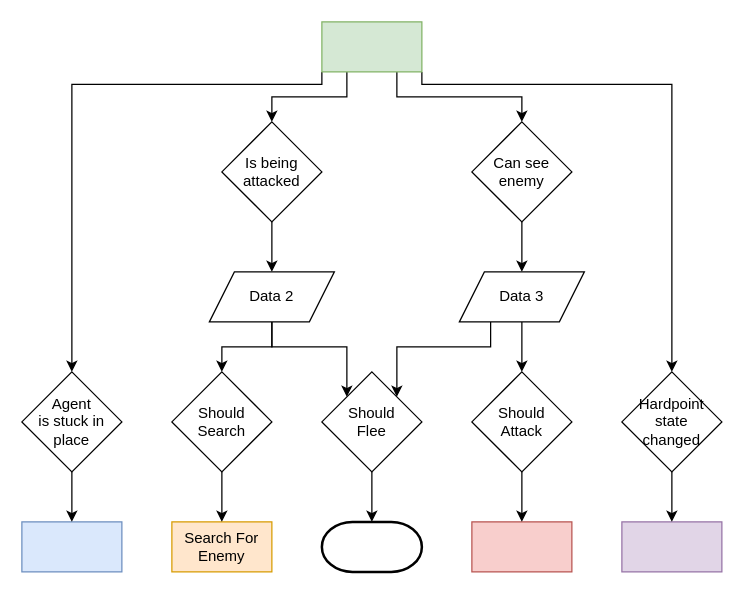
Image size: 744x595. Some labels were removed from this diagram. The centre of each missing label's shape, as x and y in pixels:
Any State: point 371,546
Attack: point 521,546
Move: point 71,546
Patrol: point 371,46
Search For Hardpoint: point 671,546
